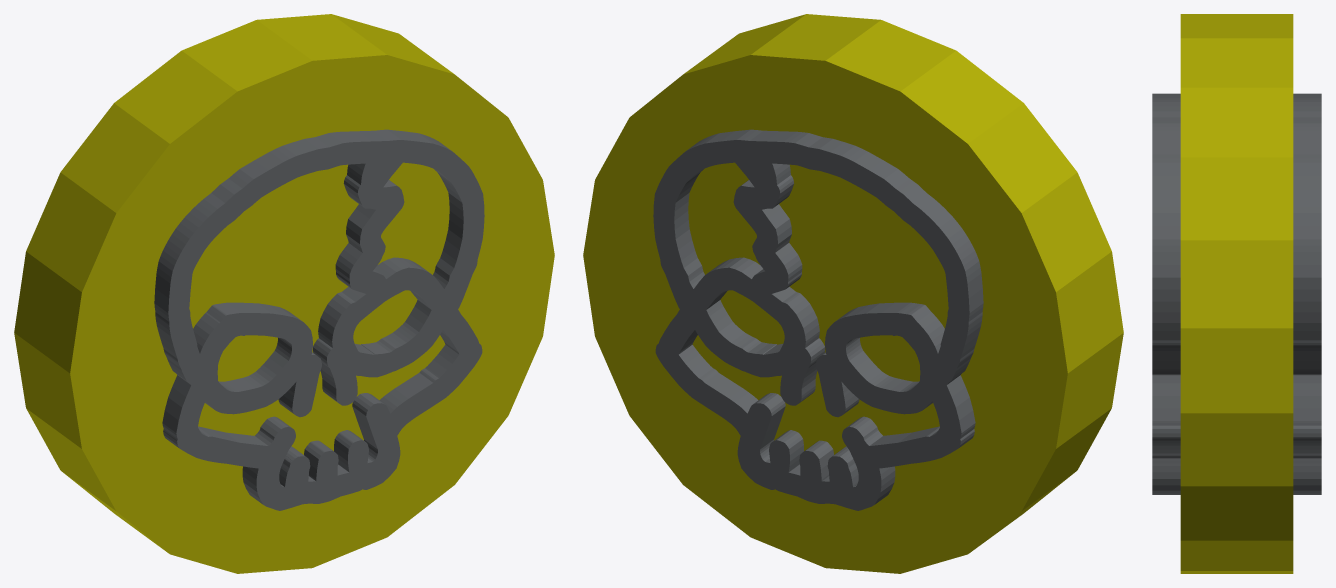
Rendered from the-coin.glb.
3 views of the same model, side by side, from view 1: azimuth 30°, elevation 25°; view 2: azimuth 150°, elevation 25°; view 3: azimuth 270°, elevation 25° (orthographic).
Visible parts, largest first — view 1: Mesh_Mesh_head_geo.001_lambert2SG.001; view 2: Mesh_Mesh_head_geo.001_lambert2SG.001; view 3: Mesh_Mesh_head_geo.001_lambert2SG.001.
Boxes of the visible parts, x1,y1,x2,y2 form: Mesh_Mesh_head_geo.001_lambert2SG.001: (14,14,554,573); Mesh_Mesh_head_geo.001_lambert2SG.001: (583,14,1123,573); Mesh_Mesh_head_geo.001_lambert2SG.001: (1152,14,1321,573).
Size of the model in its own units: 20 by 20 by 6.
